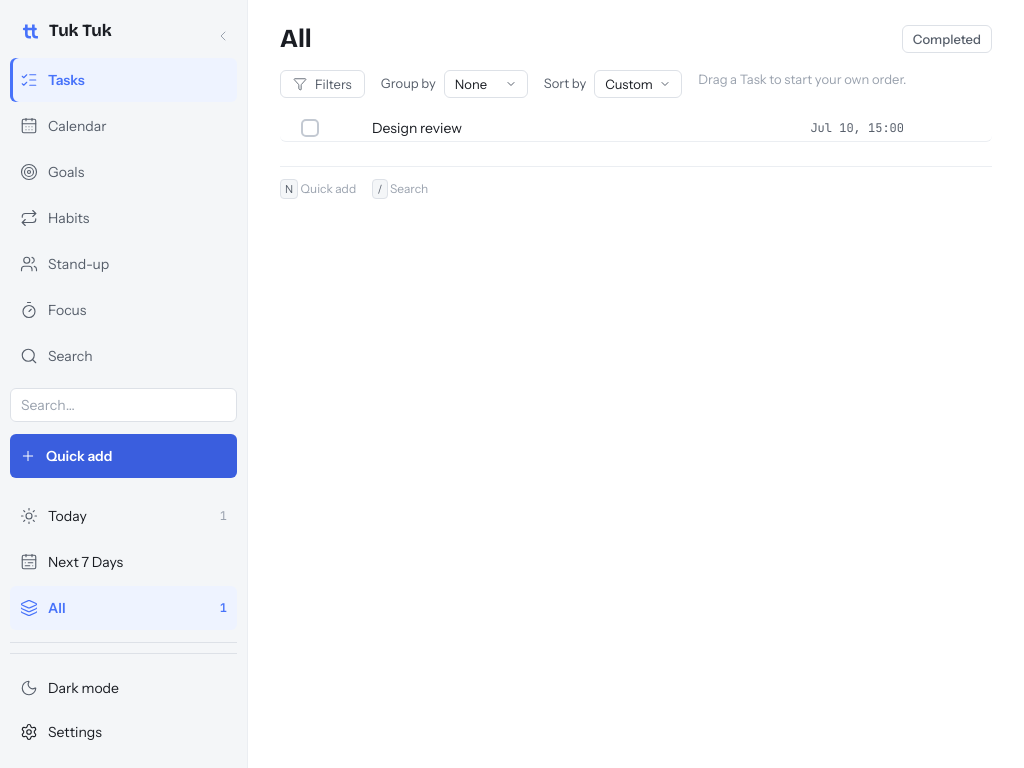
Reminders in the detail panel › adds a preset reminder and shows it in the list
The width and height of the screenshot is (1024, 768).
Click the button "Design review": (490, 128) [372,119,608,137]
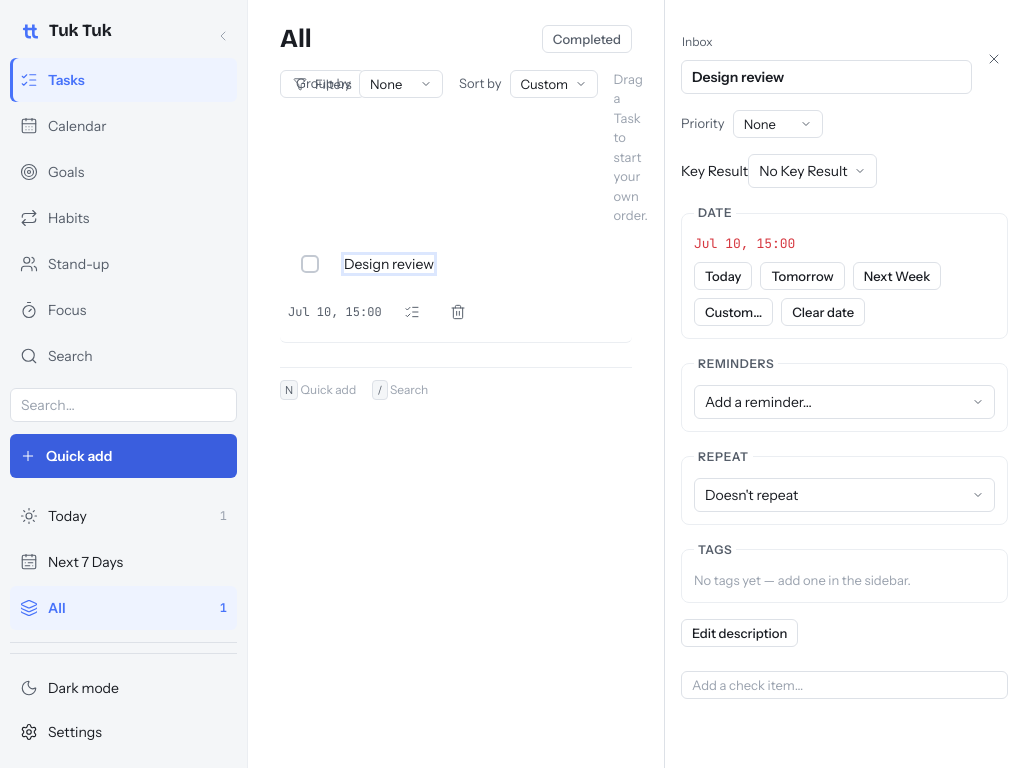
Select "30 minutes before" in the dropdown named "Add a reminder": (844, 402) [694,384,995,418]
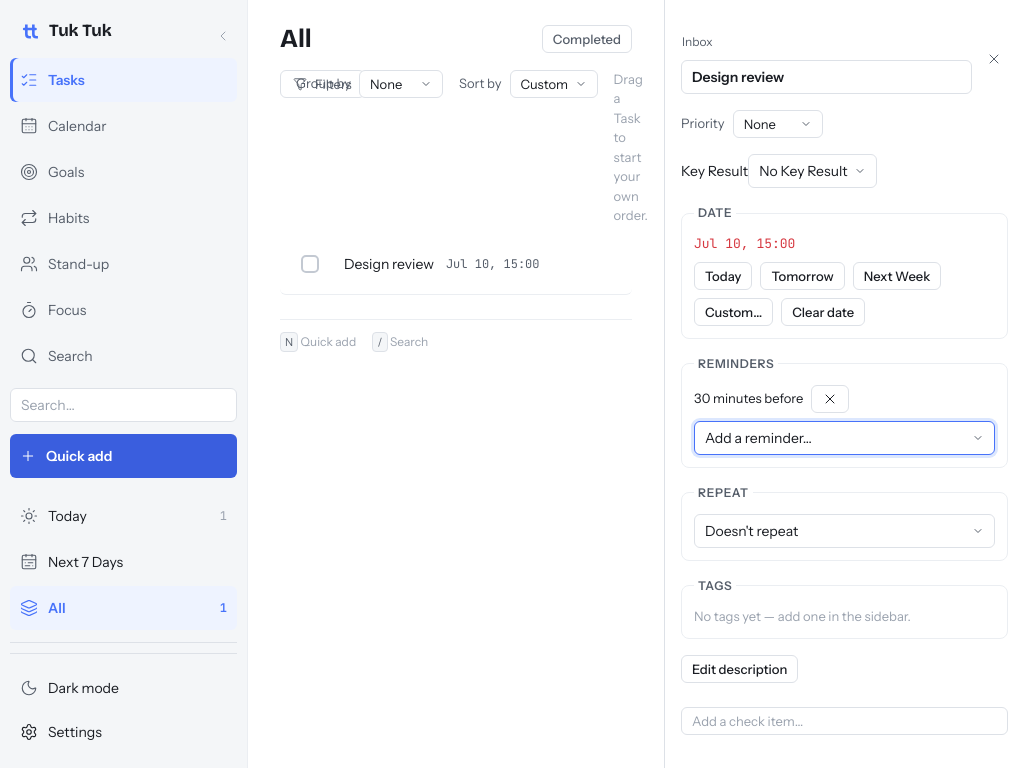
Expected: the list item "30 minutes before" is shown, [694,384,849,412]
